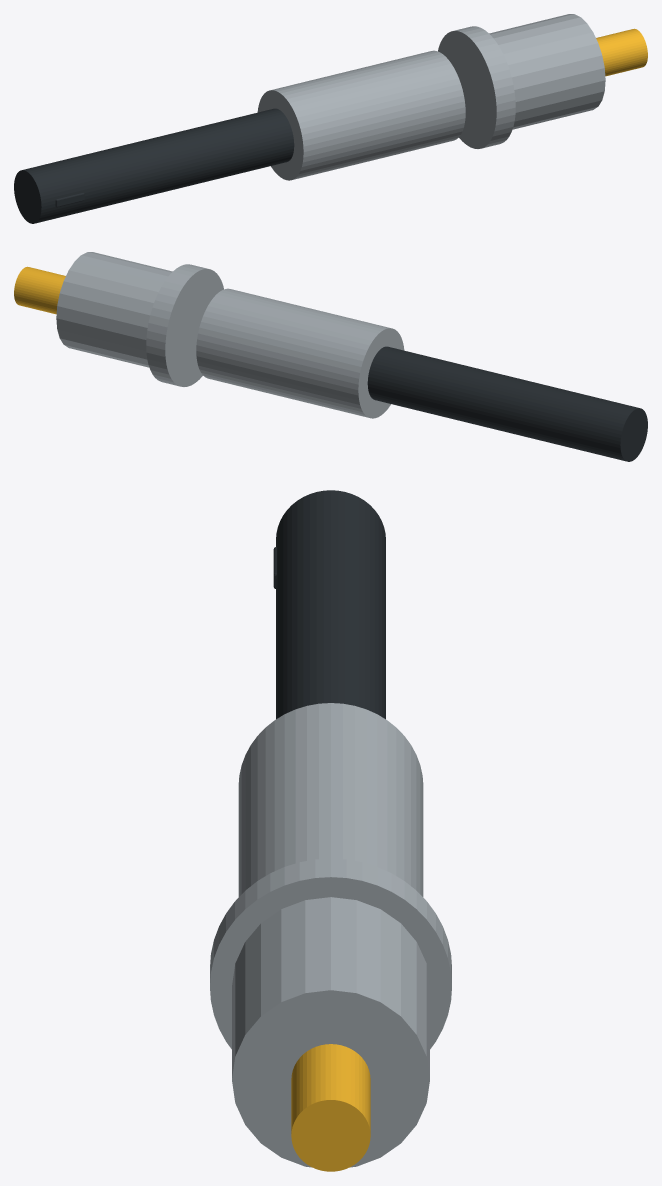
3 views of the same model, one above another, from view 1: azimuth 30°, elevation 25°; view 2: azimuth 150°, elevation 25°; view 3: azimuth 270°, elevation 25° (orthographic). The views are drawn at different scales.
Visible parts, largest first — view 1: T09_body, T09_bar, T09_taper, T09_flange, T09_stud; view 2: T09_body, T09_bar, T09_taper, T09_flange, T09_stud; view 3: T09_taper, T09_body, T09_bar, T09_flange, T09_stud.
Boxes of the visible parts, left/top/right/bottom form: T09_body: left=257, top=50, right=465, bottom=180; T09_bar: left=14, top=108, right=294, bottom=223; T09_taper: left=489, top=14, right=605, bottom=129; T09_flange: left=438, top=26, right=515, bottom=148; T09_stud: left=596, top=28, right=647, bottom=76; T09_body: left=196, top=288, right=404, bottom=418; T09_bar: left=367, top=346, right=647, bottom=461; T09_taper: left=56, top=252, right=172, bottom=367; T09_flange: left=146, top=264, right=223, bottom=386; T09_stud: left=14, top=266, right=65, bottom=314; T09_taper: left=232, top=897, right=429, bottom=1167; T09_body: left=238, top=703, right=423, bottom=896; T09_bar: left=276, top=490, right=385, bottom=719; T09_flange: left=210, top=858, right=451, bottom=1049; T09_stud: left=291, top=1044, right=370, bottom=1171.
Size of the model in its own units: 0.64 by 0.11 by 0.11.
